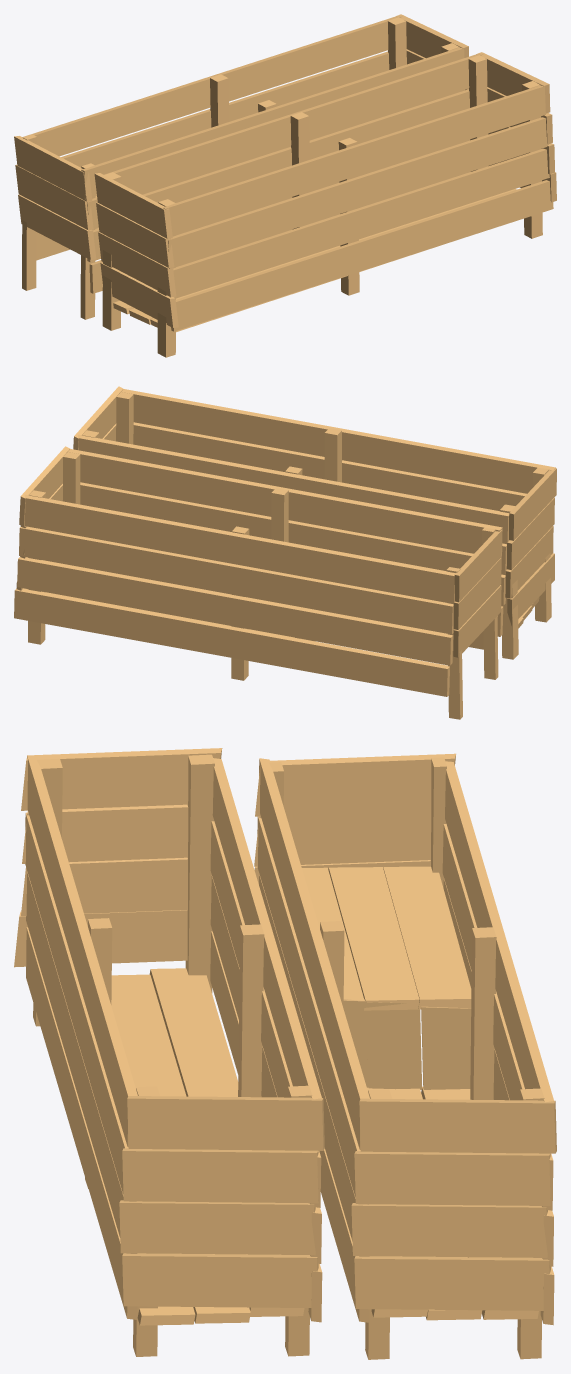
File: raised-bed--robomower-hideaway-by-dan-vinge-madsen-aTU8O8XERgM.glb
The picture shows the model from 3 angles, top to bottom: view 1: azimuth 30°, elevation 25°; view 2: azimuth 150°, elevation 25°; view 3: azimuth 270°, elevation 25°; orthographic projection. The views are drawn at different scales.
Parts seen in each view (by area): view 1: Node; view 2: Node; view 3: Node.
Boxes of the visible parts, x1=… form: Node: x1=14, y1=14, x2=556, y2=357; Node: x1=14, y1=386, x2=556, y2=719; Node: x1=14, y1=748, x2=556, y2=1359.
Bounding box in the file's own units: 3.33 × 1.17 × 2.04.
